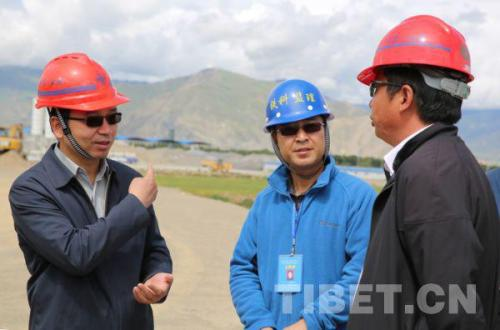helmet: (366, 4, 477, 144), (37, 46, 125, 160), (260, 75, 333, 175)
